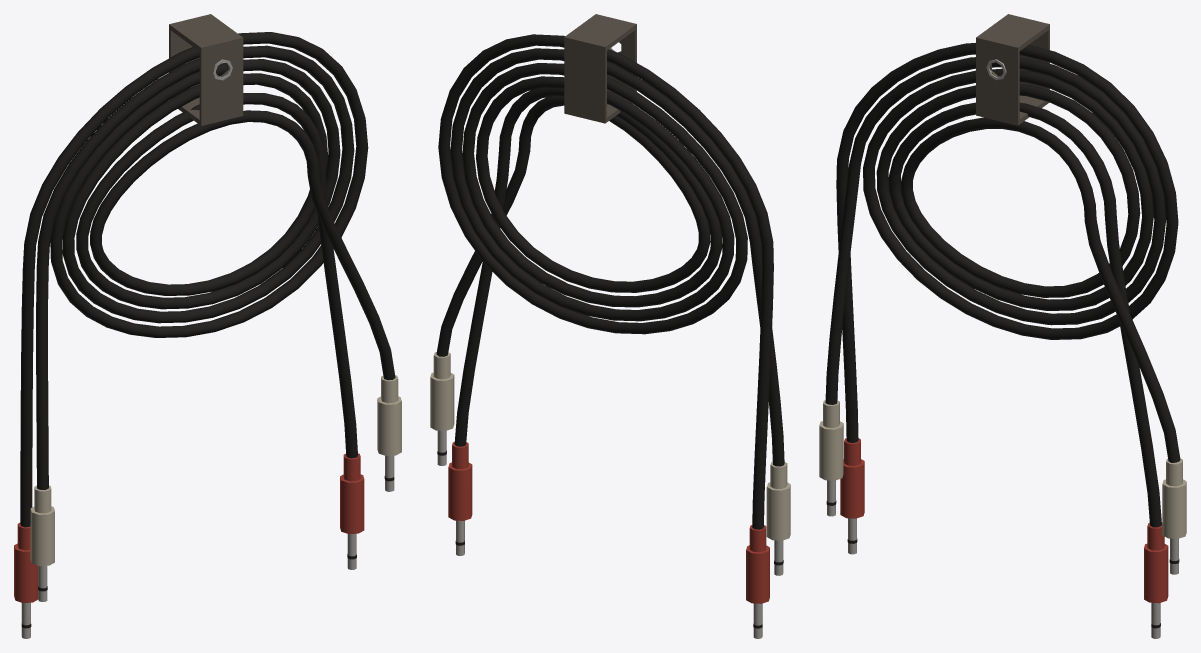
The model's file is cable-coil-small-patch-dd5b7f9bf962.glb.
The picture shows the model from 3 angles, left to right: view 1: azimuth 30°, elevation 25°; view 2: azimuth 150°, elevation 25°; view 3: azimuth 330°, elevation 25°; orthographic projection. The views are drawn at different scales.
Visible parts, largest first — view 1: rubber, fabric, plastic-light, accent-warm, brushed; view 2: rubber, fabric, plastic-light, accent-warm, brushed; view 3: rubber, fabric, plastic-light, accent-warm, brushed.
Boxes of the visible parts, left/top/right/bottom form: rubber: left=20, top=32, right=395, bottom=628; fabric: left=169, top=14, right=243, bottom=125; plastic-light: left=30, top=375, right=401, bottom=566; accent-warm: left=14, top=453, right=364, bottom=602; brushed: left=21, top=59, right=394, bottom=638; rubber: left=436, top=34, right=784, bottom=628; fabric: left=564, top=14, right=636, bottom=123; plastic-light: left=430, top=352, right=790, bottom=540; accent-warm: left=448, top=442, right=769, bottom=603; brushed: left=437, top=47, right=783, bottom=638; rubber: left=825, top=43, right=1180, bottom=628; fabric: left=976, top=14, right=1049, bottom=125; plastic-light: left=819, top=400, right=1186, bottom=538; accent-warm: left=840, top=438, right=1168, bottom=603; brushed: left=827, top=59, right=1178, bottom=638.
Bounding box in the file's own units: 0.1574 × 0.234 × 0.0253.
